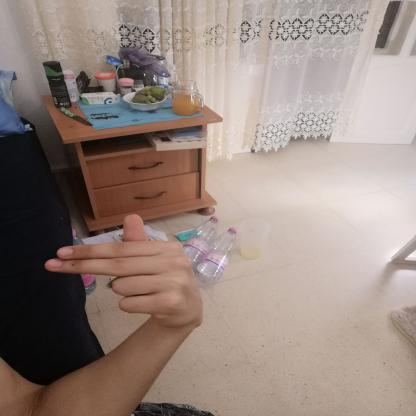GHAYN: (34, 207, 214, 335)
